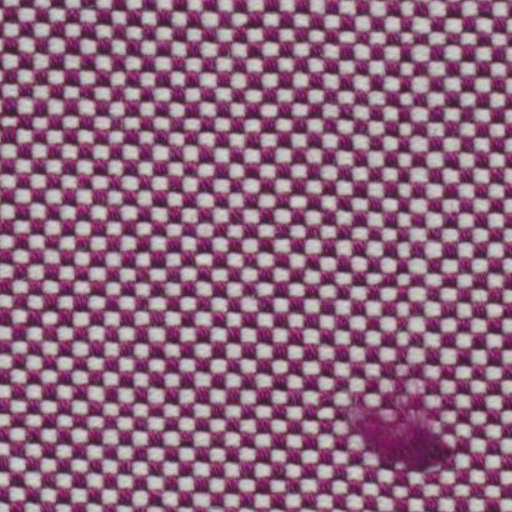MianQiu: (344, 374, 473, 482)
